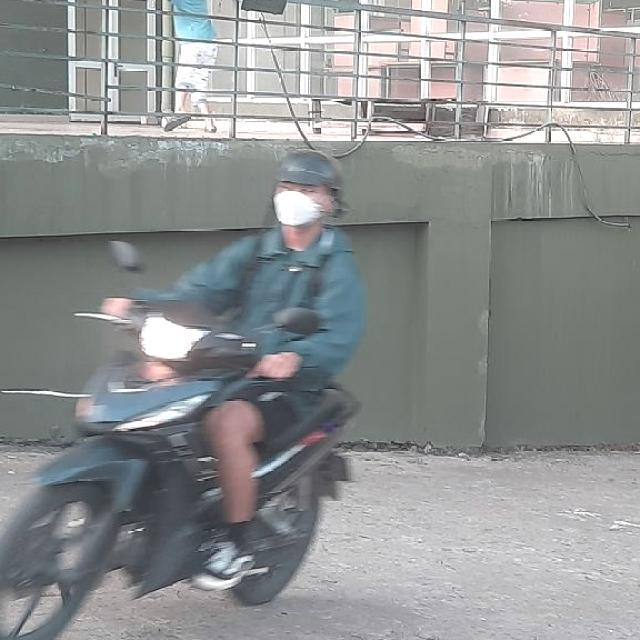Helmet: (272, 145, 344, 231)
